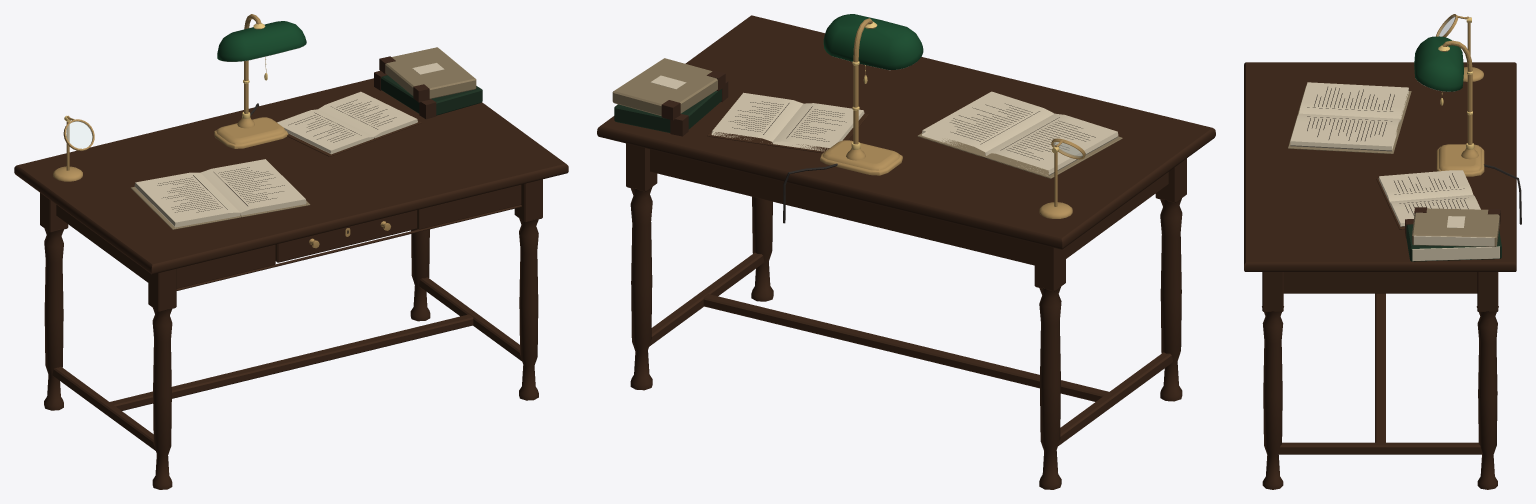
Rendered from reading_table.glb.
3 views of the same model, side by side, from view 1: azimuth 30°, elevation 25°; view 2: azimuth 150°, elevation 25°; view 3: azimuth 270°, elevation 25° (orthographic). The views are drawn at different scales.
Parts seen in each view (by area): view 1: table, table_dressing, lamp_shade, banker_lamp; view 2: table, table_dressing, lamp_shade, banker_lamp; view 3: table, table_dressing, banker_lamp, lamp_shade.
Boxes of the visible parts, x1,y1,x2,y2 form: table: (14,78,568,489); table_dressing: (53,47,482,229); lamp_shade: (217,21,306,61); banker_lamp: (214,14,288,148); table: (597,15,1215,489); table_dressing: (612,58,1122,218); lamp_shade: (823,14,923,70); banker_lamp: (783,18,902,223); table: (1244,62,1516,489); table_dressing: (1288,14,1501,261); banker_lamp: (1436,40,1521,224); lamp_shade: (1414,36,1463,91).
Bounding box in the file's own units: 1.4 × 1.15 × 0.8152.
